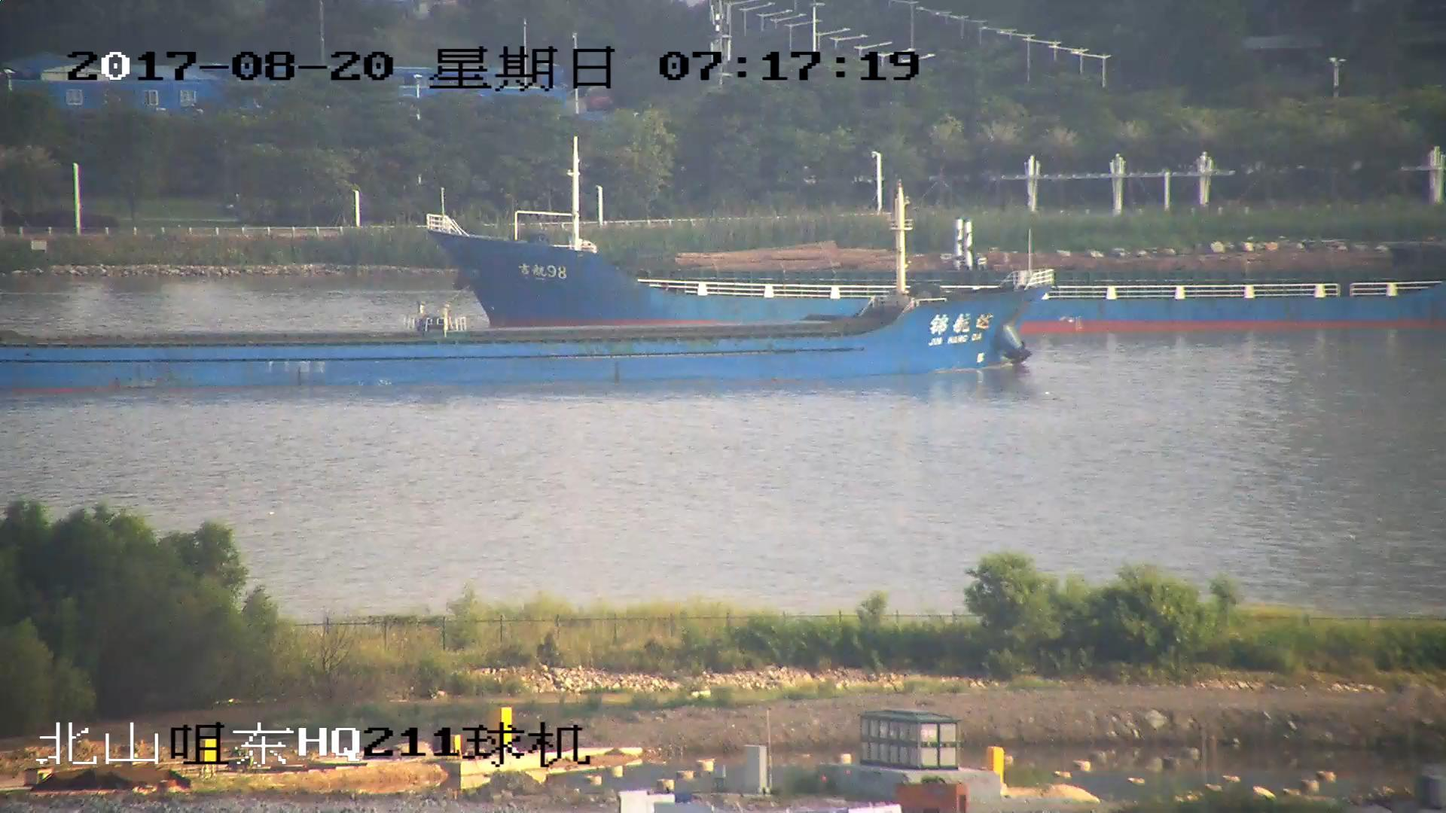general cargo ship: (0, 187, 1038, 385), (428, 142, 1445, 327)
